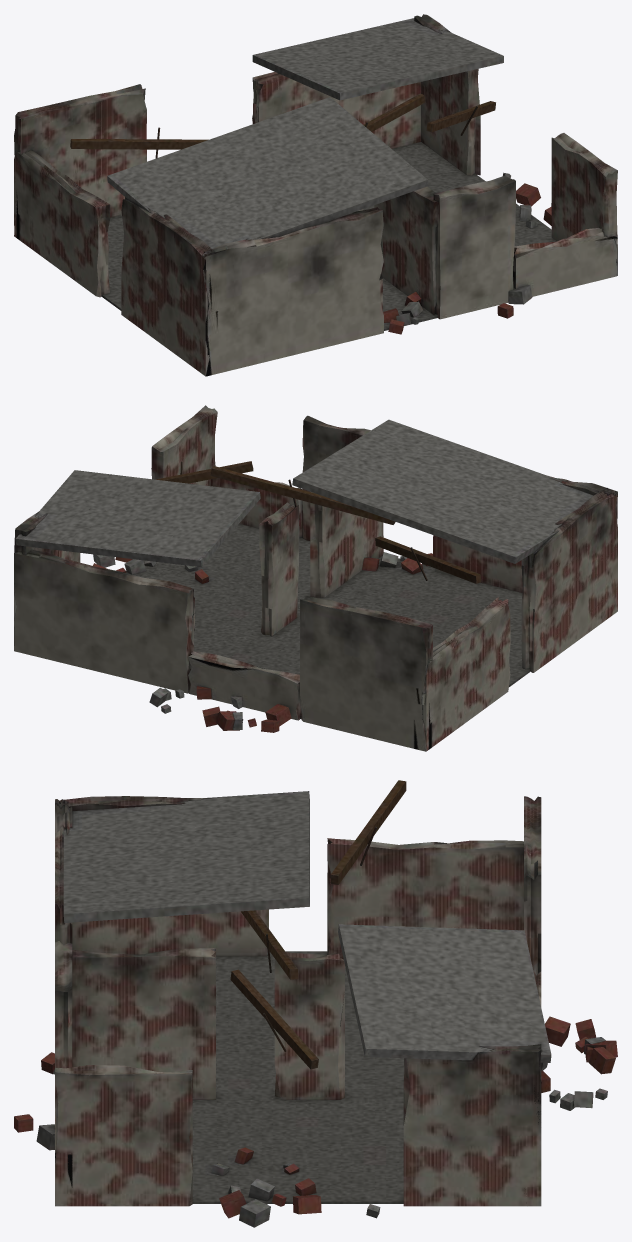
File: casa.glb
3 views of the same model, one above another, from view 1: azimuth 30°, elevation 25°; view 2: azimuth 150°, elevation 25°; view 3: azimuth 270°, elevation 25° (orthographic). The views are drawn at different scales.
Visible parts, largest first — view 1: casa; view 2: casa; view 3: casa.
Boxes of the visible parts, left/top/right/bottom form: casa: left=14, top=14, right=617, bottom=376; casa: left=14, top=405, right=617, bottom=751; casa: left=14, top=780, right=617, bottom=1227.
Bounding box in the file's own units: 11.15 × 3.7 × 10.3.
1 material, 1 textured.
